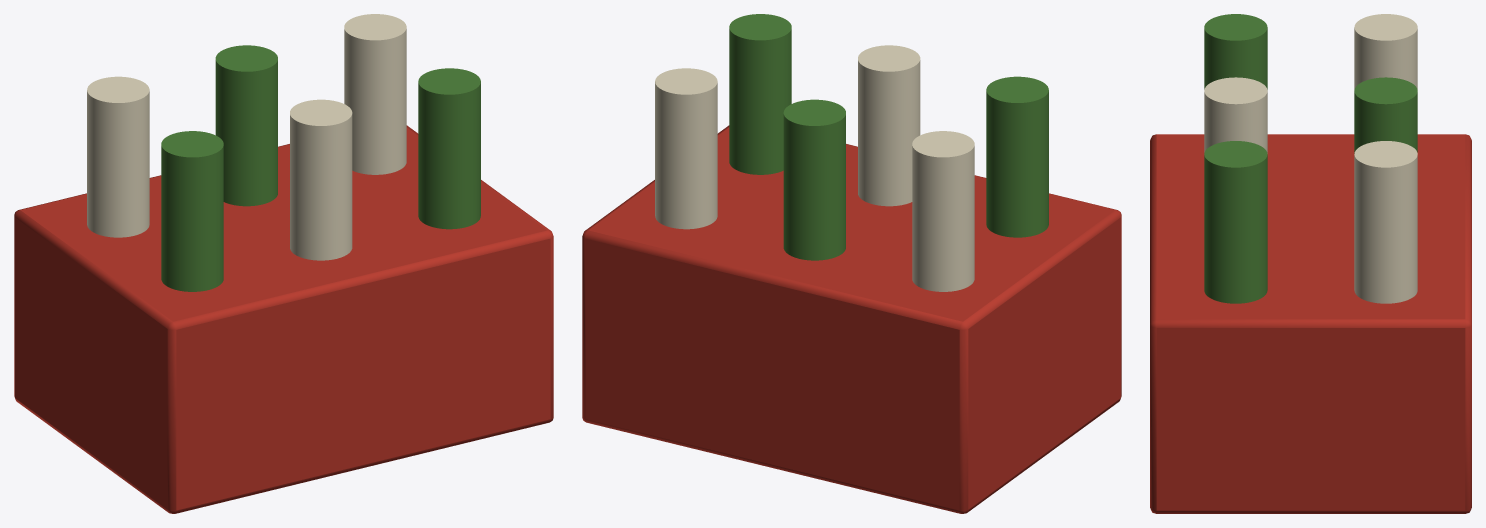
Rendered from ThungNuocNgot_Khach.glb.
The picture shows the model from 3 angles, left to right: view 1: azimuth 30°, elevation 25°; view 2: azimuth 150°, elevation 25°; view 3: azimuth 270°, elevation 25°; orthographic projection.
Parts seen in each view (by area): view 1: ThungNuocNgot_Khach; view 2: ThungNuocNgot_Khach; view 3: ThungNuocNgot_Khach.
Boxes of the visible parts, <box> form: ThungNuocNgot_Khach: <box>14,14,553,513</box>; ThungNuocNgot_Khach: <box>582,14,1121,513</box>; ThungNuocNgot_Khach: <box>1150,14,1471,513</box>.
Bounding box in the file's own units: 0.42 × 0.34 × 0.3.
